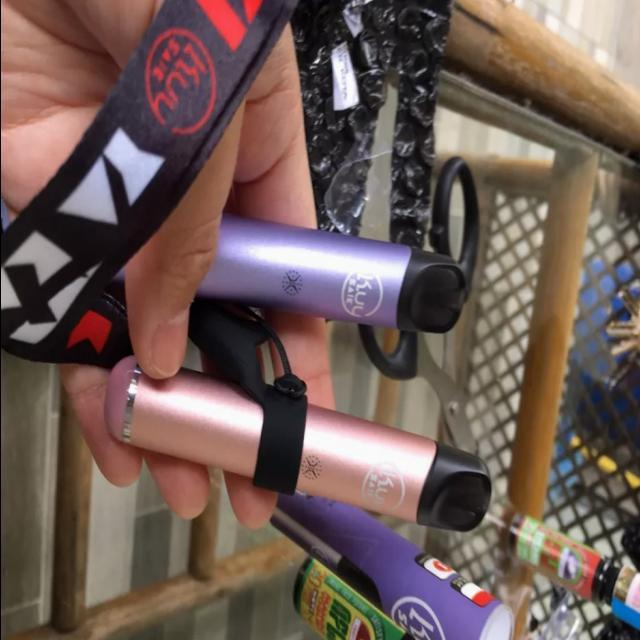Hazard: (104, 355, 491, 528), (203, 220, 465, 332)
